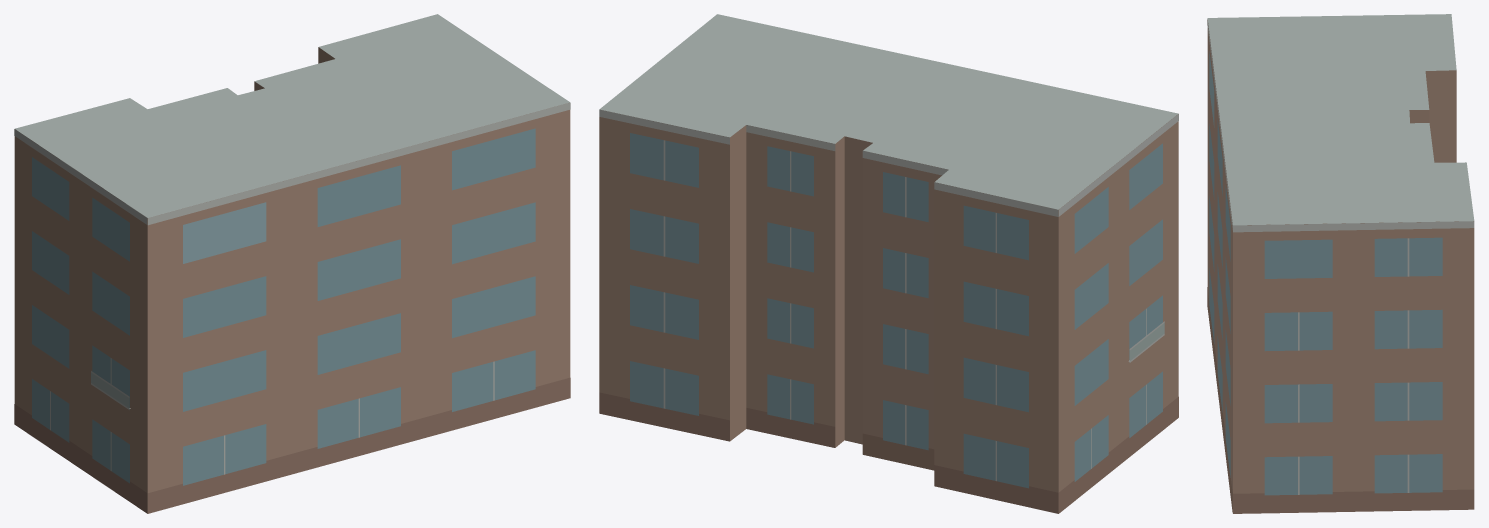
Rendered from survey-upis-32978687.glb.
The picture shows the model from 3 angles, left to right: view 1: azimuth 30°, elevation 25°; view 2: azimuth 150°, elevation 25°; view 3: azimuth 270°, elevation 25°; orthographic projection. The views are drawn at different scales.
Visible parts, largest first — view 1: survey-upis-32978687.tmp; view 2: survey-upis-32978687.tmp; view 3: survey-upis-32978687.tmp.
Boxes of the visible parts, box(x1,y1,x2,y2) form: survey-upis-32978687.tmp: box(14, 14, 570, 513); survey-upis-32978687.tmp: box(599, 14, 1178, 513); survey-upis-32978687.tmp: box(1207, 14, 1474, 513).
Bounding box in the file's own units: 15.88 × 10.1 × 8.48.
